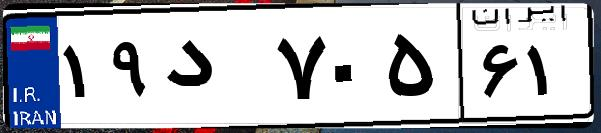0: (330, 28, 385, 110)
1: (57, 26, 110, 100), (525, 38, 570, 115)
5: (385, 28, 445, 110)
6: (475, 38, 525, 113)
7: (270, 28, 330, 110)
9: (110, 28, 158, 98)
د: (158, 20, 270, 120)
